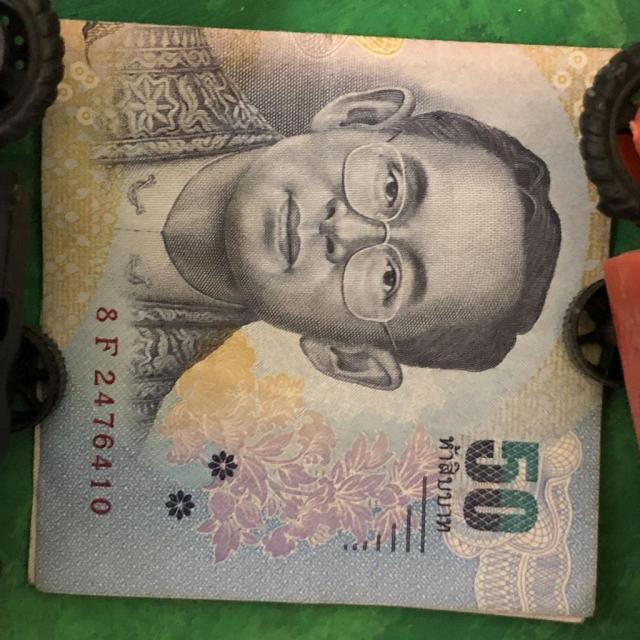THAI50: (29, 20, 614, 622)
